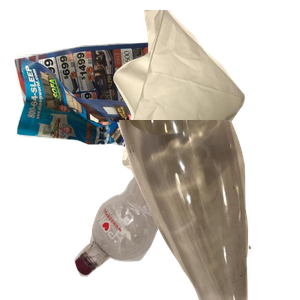glass: (115, 120, 300, 300)
paper: (12, 31, 196, 204)
plastic: (72, 142, 273, 300)
trash: (111, 10, 300, 190)
